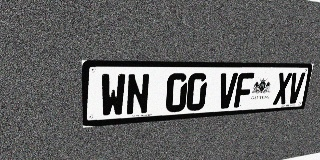0: (165, 73, 188, 113), (185, 73, 208, 111)
F: (234, 73, 254, 108)
N: (126, 73, 150, 116)
V: (217, 73, 238, 109), (286, 73, 305, 104)
W: (101, 74, 126, 117)
X: (273, 73, 292, 105)
